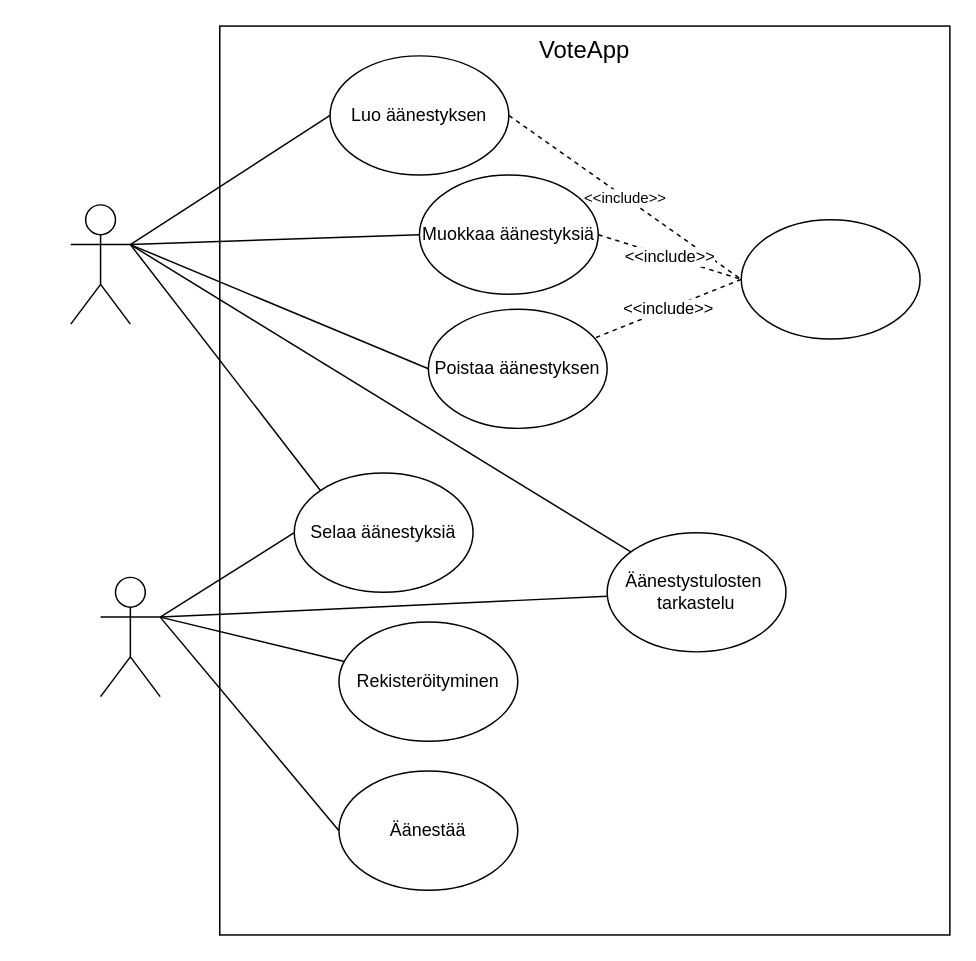
Image size: 976x961. Some labels were removed from this diagram. The centre of each missing label's shape, as x and y in pixels:
"Aänestyksen tekijä" belongs at point (99, 263).
"Kirjautuminen" belongs at point (830, 278).
"Äänestäjä" belongs at point (129, 636).
